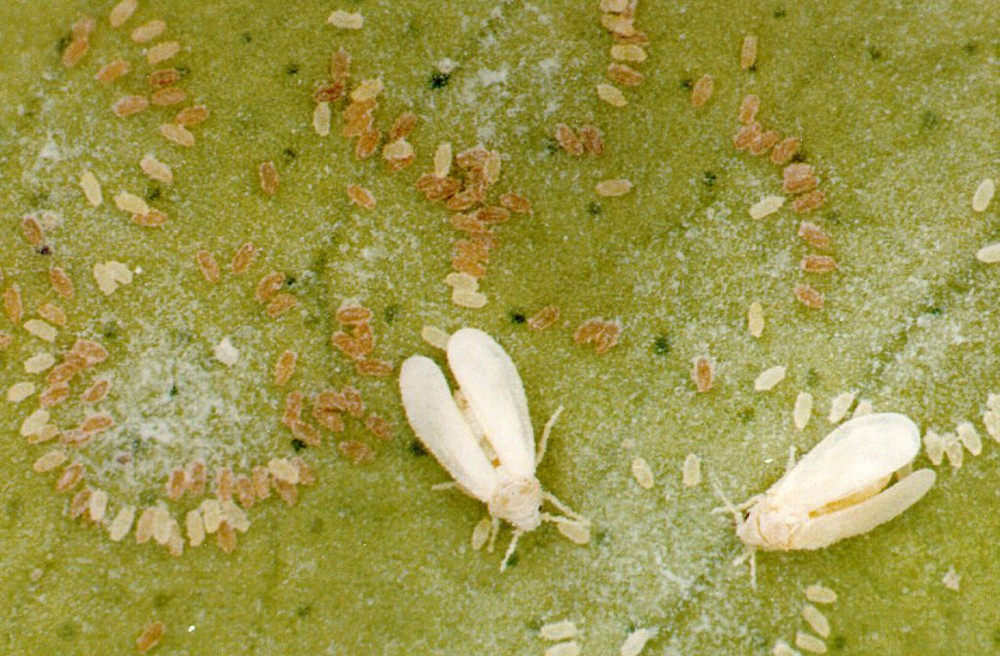Mosca Blanca: (383, 325, 601, 569), (703, 397, 942, 590)
